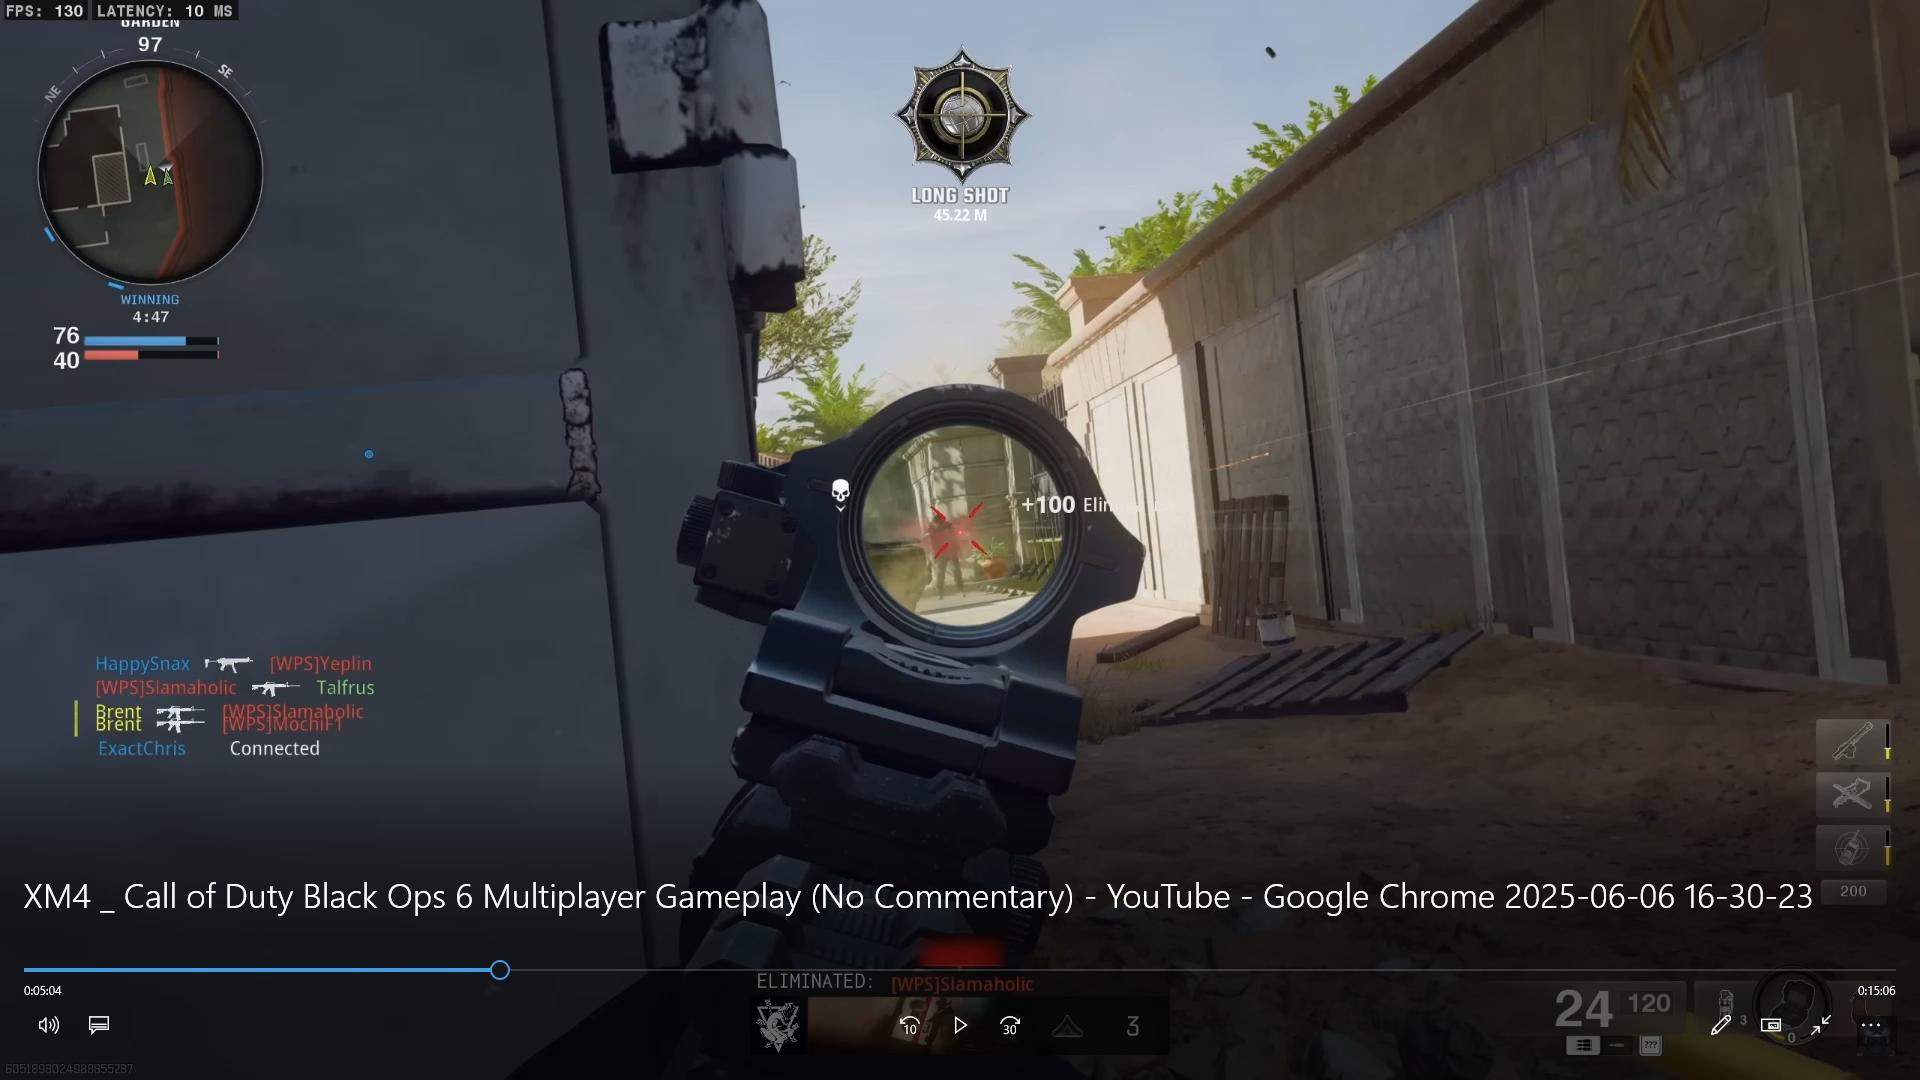Enemy: (923, 506, 978, 597)
